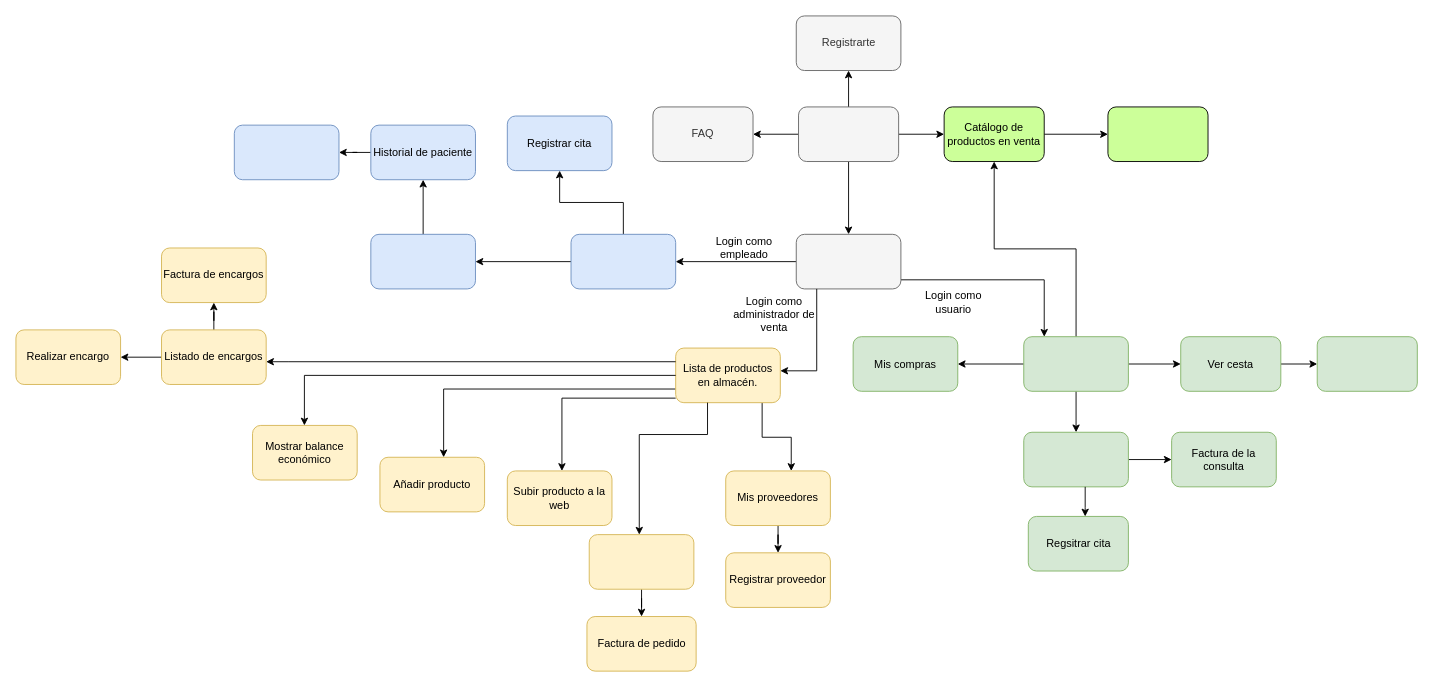
This 1433x687 diagram has some shape labels left out. Here are the shapes that lost their labels. From the top down, the centre of each, then its label:
(286,152): Crear consulta
(848,134): Página principal (Sin sesión)
(1157,134): Detalles del producto
(422,261): Buscador de paciente
(623,261): Citas proximas
(848,261): Iniciar sesión
(1075,363): Página principal (Sesión iniciada)
(1366,363): Realizar compra
(1075,459): Mis citas (botón borrar)
(641,561): Listado de pedidos
